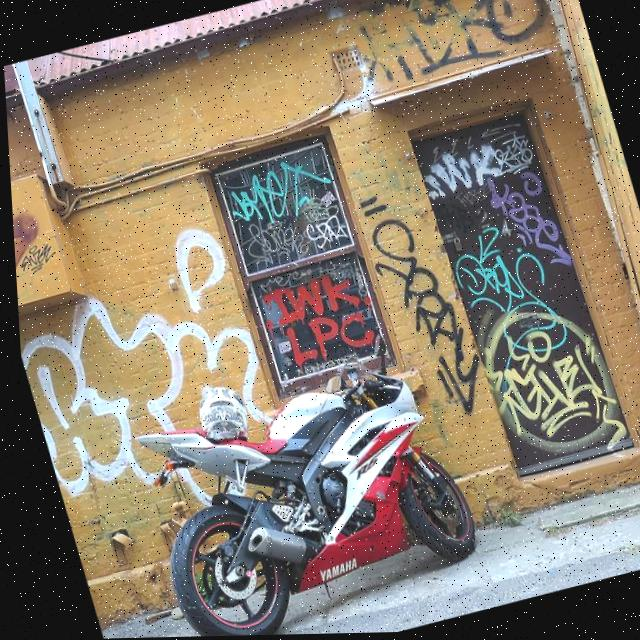motorcycle: (104, 344, 492, 638)
